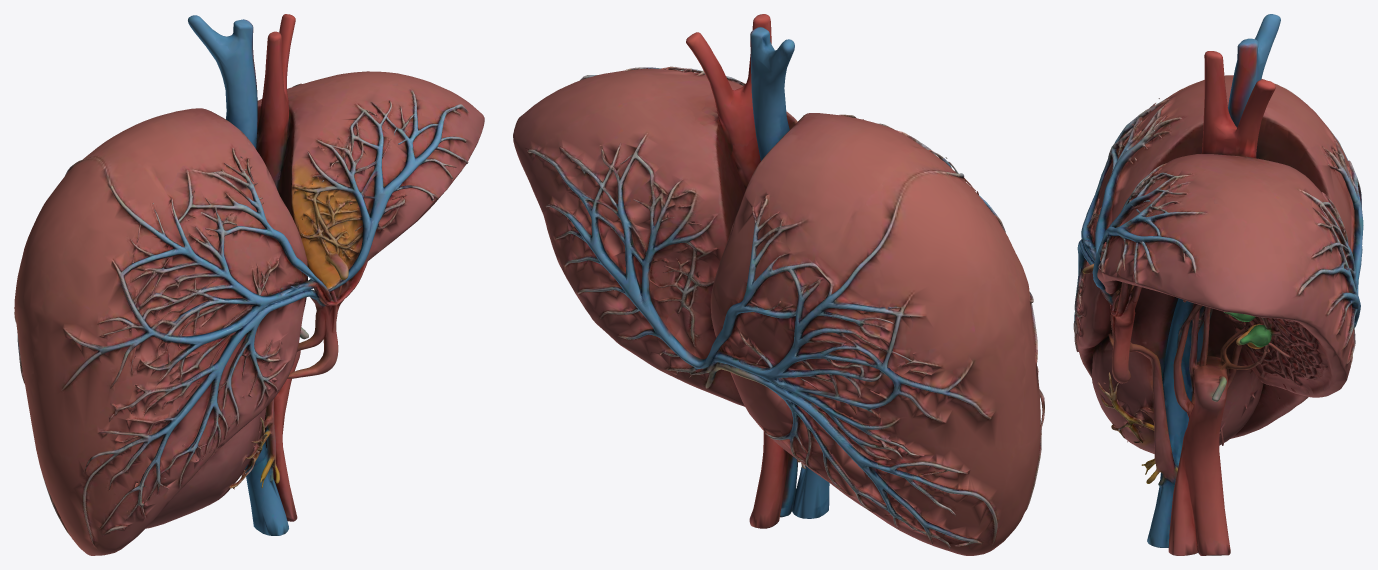
The model's file is liver.glb.
The picture shows the model from 3 angles, left to right: view 1: azimuth 30°, elevation 25°; view 2: azimuth 150°, elevation 25°; view 3: azimuth 270°, elevation 25°; orthographic projection. The views are drawn at different scales.
Parts seen in each view (by area): view 1: tripo_node_1c7e641c-603f-41bd-b81d-f90f99063845; view 2: tripo_node_1c7e641c-603f-41bd-b81d-f90f99063845; view 3: tripo_node_1c7e641c-603f-41bd-b81d-f90f99063845.
Part boxes in pixels (x1=…): tripo_node_1c7e641c-603f-41bd-b81d-f90f99063845: x1=14, y1=14, x2=484, y2=555; tripo_node_1c7e641c-603f-41bd-b81d-f90f99063845: x1=513, y1=14, x2=1044, y2=555; tripo_node_1c7e641c-603f-41bd-b81d-f90f99063845: x1=1073, y1=14, x2=1363, y2=555.
Bounding box in the file's own units: 0.9932 × 0.9998 × 0.5122.
Materials: 1 (1 with a texture image).
